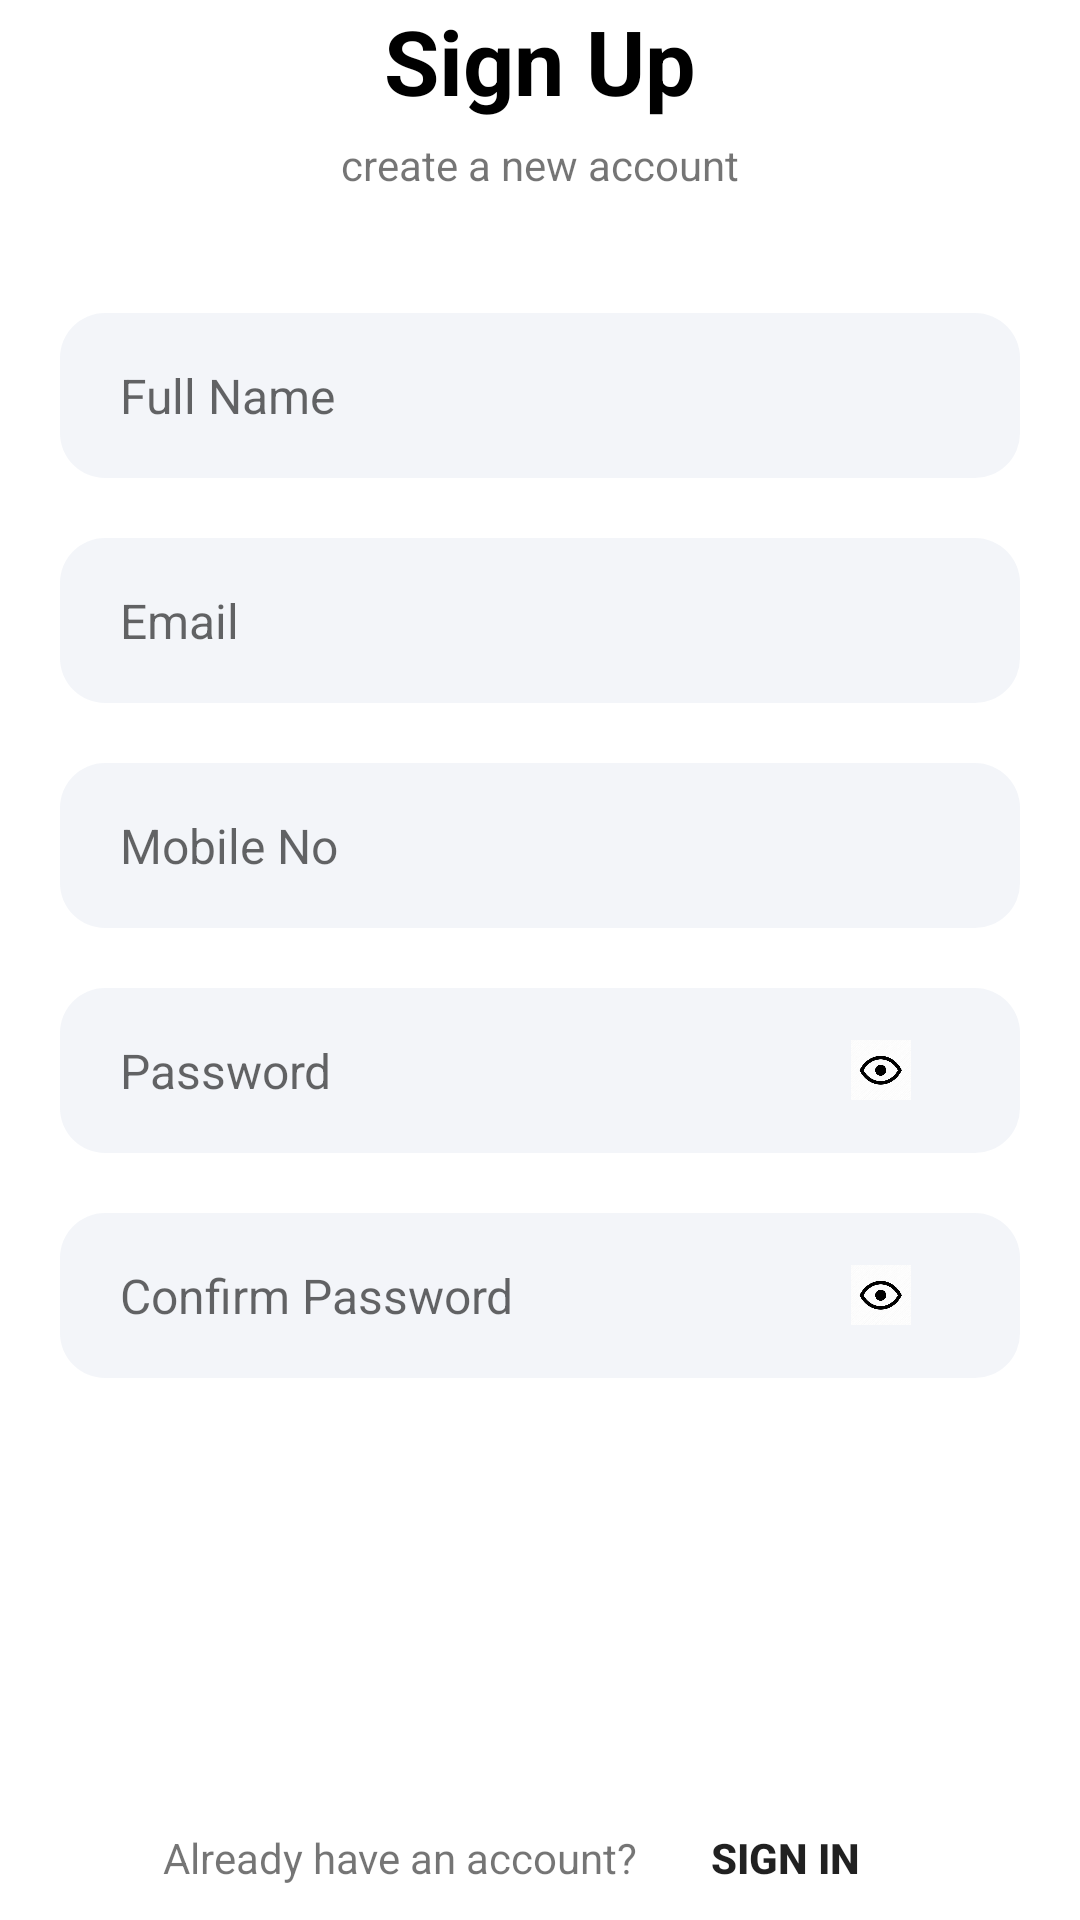

Screen size 1080px x 1920px. Icon name, then its box in pixels as detection(x1, y1, x2, y2):
show: detection(851, 1040, 911, 1100), detection(851, 1265, 911, 1325)
